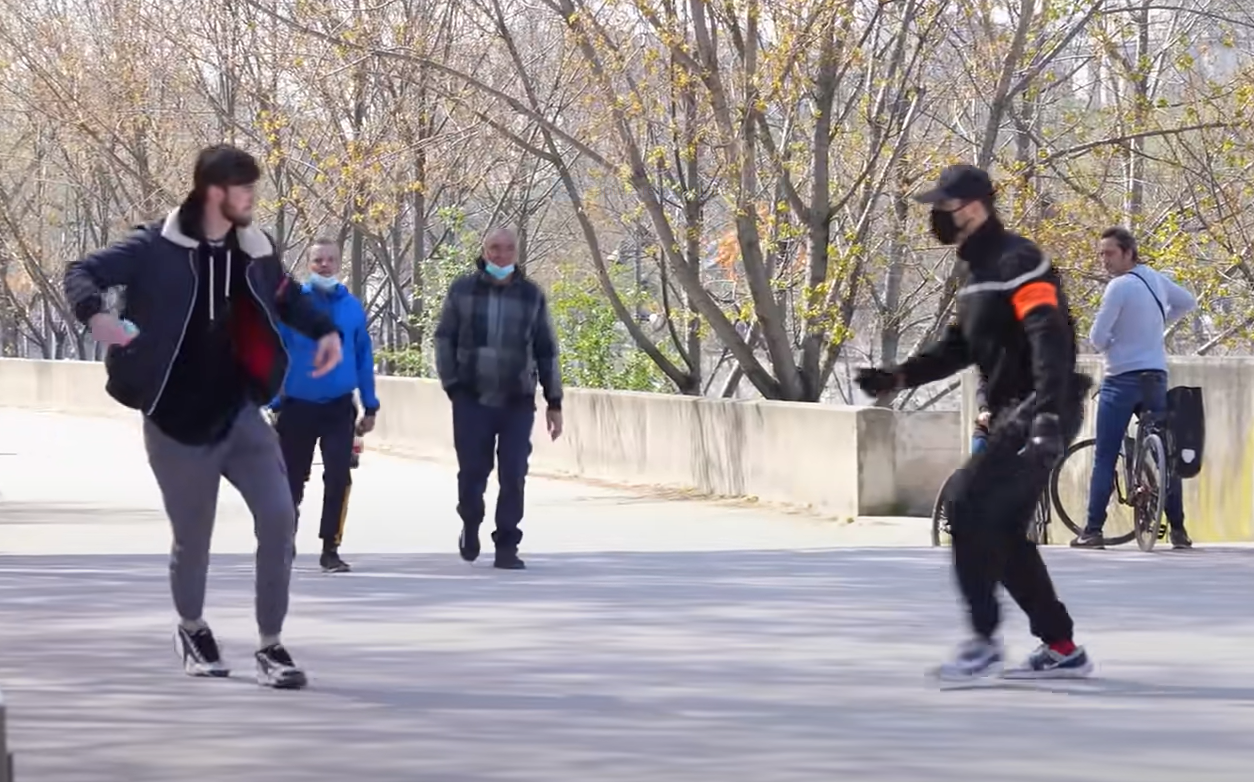with_incorrect_mask: (487, 236, 517, 283), (308, 244, 338, 289)
with_mask: (932, 194, 986, 246)
without_mask: (206, 170, 256, 226), (1101, 239, 1134, 272)
